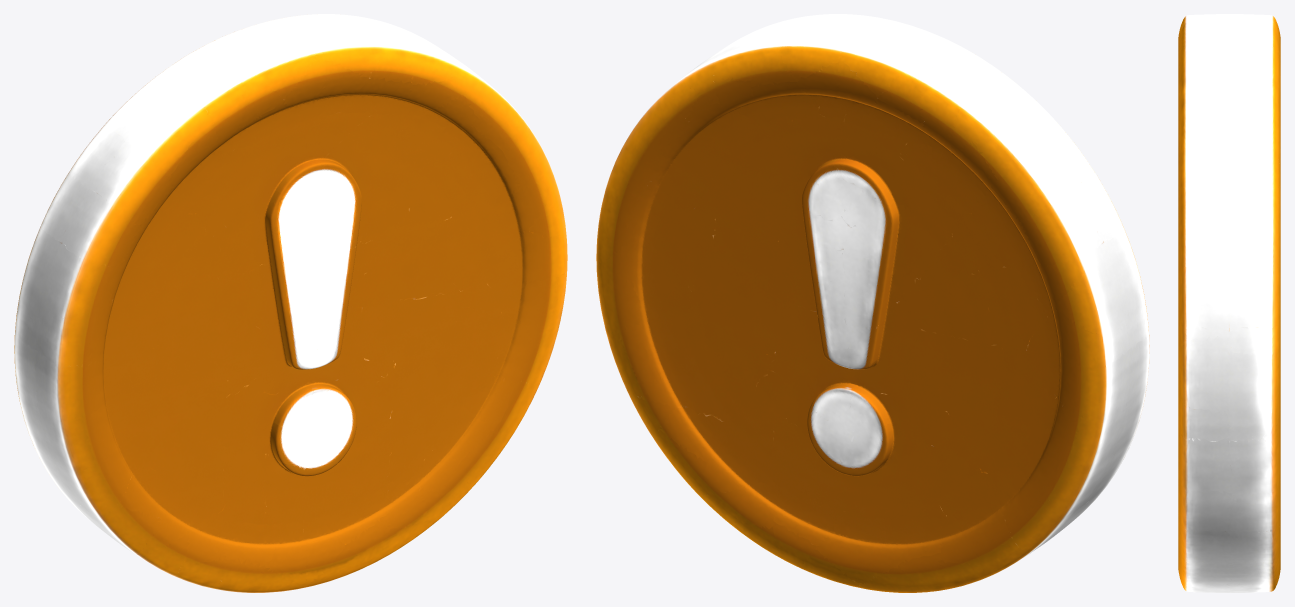
File: button_unchecked_3.glb
The picture shows the model from 3 angles, left to right: view 1: azimuth 30°, elevation 25°; view 2: azimuth 150°, elevation 25°; view 3: azimuth 270°, elevation 25°; orthographic projection.
Size of the model in its own units: 1.9 by 1.9 by 0.3352.
Materials: 1 (1 with a texture image).
